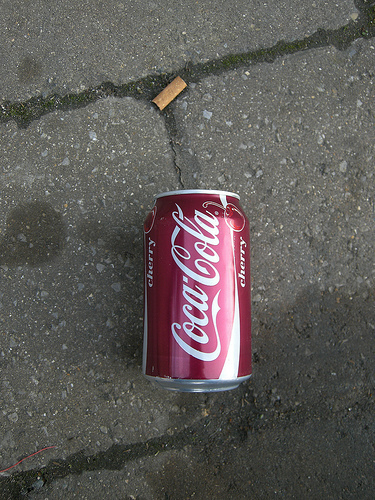litter: (139, 188, 254, 392), (152, 75, 187, 108)
